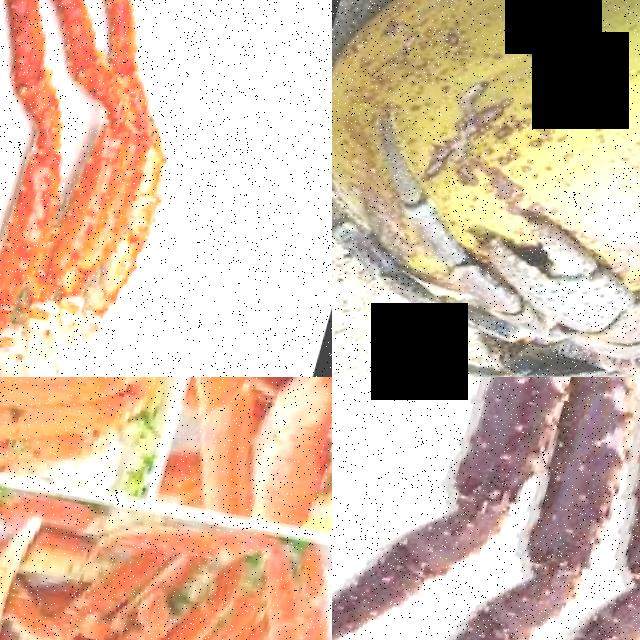coconut: (332, 0, 640, 285)
crab: (0, 0, 240, 377), (332, 377, 640, 640), (0, 468, 198, 640), (132, 514, 332, 640), (0, 377, 148, 517)
